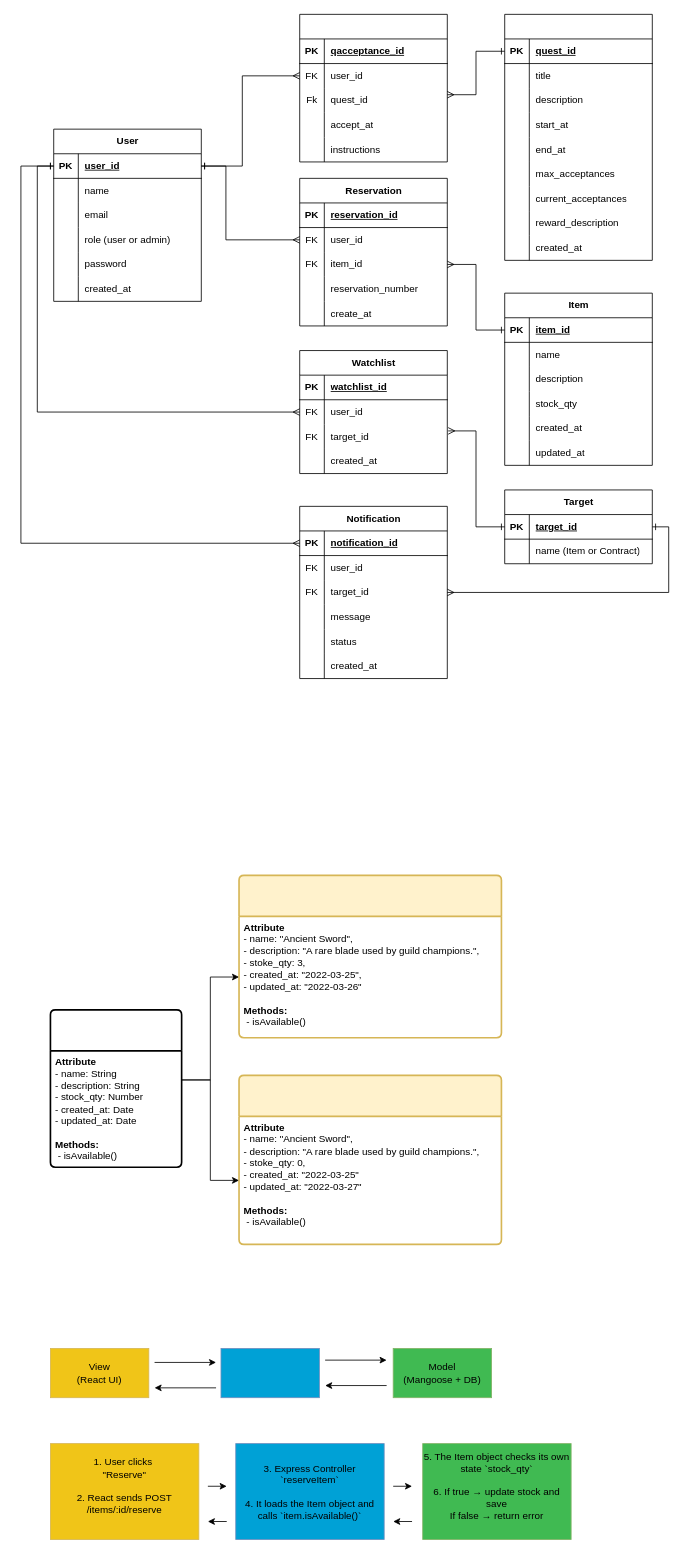
The diagram is 690 pixels wide and 1554 high, and some of its shapes have lost their labels. Here are the shapes that lost their labels. From the top down, the box of each, then its label:
(299, 14, 447, 162): ContractAcceptance
(504, 14, 652, 260): Contract
(238, 874, 502, 1038): object: newItem
(49, 1009, 182, 1168): class: Item
(238, 1074, 502, 1245): object: updatedItem
(220, 1348, 319, 1398): Controller (Express Logic)
